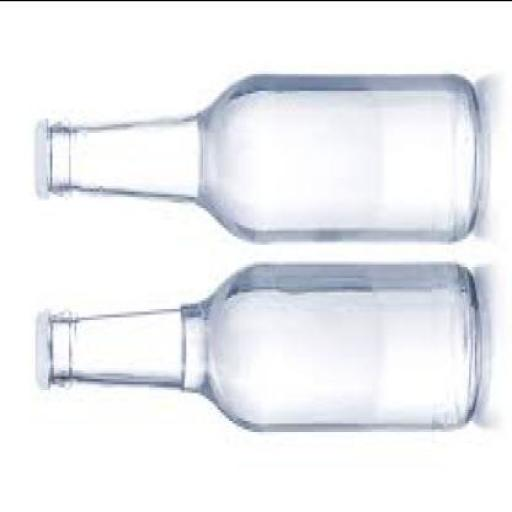glass: (44, 76, 482, 246), (50, 263, 479, 436)
metal: (35, 311, 52, 394), (36, 125, 48, 202)
